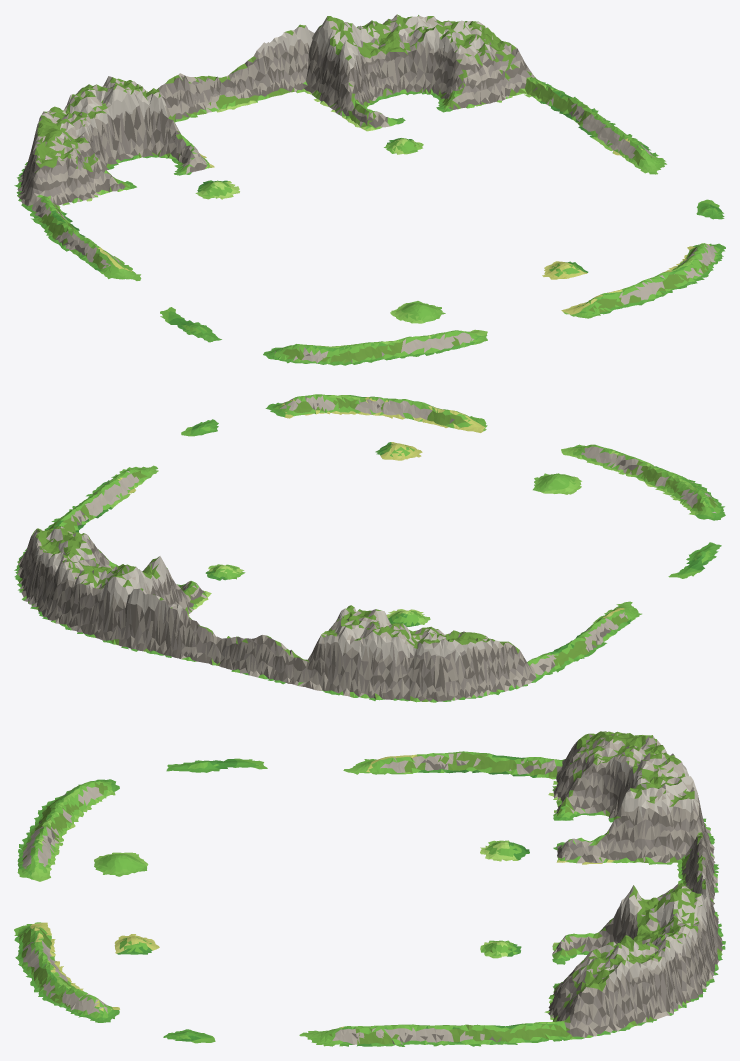
The model's file is Map-4-Relief.fbx.
The picture shows the model from 3 angles, top to bottom: view 1: azimuth 30°, elevation 25°; view 2: azimuth 150°, elevation 25°; view 3: azimuth 270°, elevation 25°; orthographic projection. The views are drawn at different scales.
Visible parts, largest first — view 1: Map-4-Relief-c23, Map-4-Relief-c13, Map-4-Relief-c33, Map-4-Relief-c03, Map-4-Relief-c32, Map-4-Relief-c02, Map-4-Relief-c10, Map-4-Relief-c20, Map-4-Relief-c00, Map-4-Relief-c31, Map-4-Relief-c30, Map-4-Relief-c12 (+2 smaller); view 2: Map-4-Relief-c23, Map-4-Relief-c13, Map-4-Relief-c03, Map-4-Relief-c33, Map-4-Relief-c20, Map-4-Relief-c10, Map-4-Relief-c02, Map-4-Relief-c32, Map-4-Relief-c00, Map-4-Relief-c30, Map-4-Relief-c31, Map-4-Relief-c01 (+2 smaller); view 3: Map-4-Relief-c13, Map-4-Relief-c33, Map-4-Relief-c23, Map-4-Relief-c03, Map-4-Relief-c32, Map-4-Relief-c02, Map-4-Relief-c10, Map-4-Relief-c20, Map-4-Relief-c30, Map-4-Relief-c31, Map-4-Relief-c00, Map-4-Relief-c01 (+2 smaller).
Boxes of the visible parts, x1,y1,x2,y2 form: Map-4-Relief-c23: (222,16,441,126); Map-4-Relief-c13: (76,73,233,182); Map-4-Relief-c33: (389,14,533,105); Map-4-Relief-c03: (14,93,110,207); Map-4-Relief-c32: (443,64,645,153); Map-4-Relief-c02: (25,168,132,277); Map-4-Relief-c10: (356,301,487,362); Map-4-Relief-c20: (542,261,686,318); Map-4-Relief-c00: (263,344,366,365); Map-4-Relief-c31: (614,139,724,219); Map-4-Relief-c30: (667,217,725,285); Map-4-Relief-c12: (126,153,239,199); Map-4-Relief-c23: (59,556,221,665); Map-4-Relief-c13: (215,605,411,700); Map-4-Relief-c03: (380,623,538,702); Map-4-Relief-c33: (14,526,113,623); Map-4-Relief-c20: (347,396,487,460); Map-4-Relief-c10: (533,444,682,494); Map-4-Relief-c02: (527,607,639,679); Map-4-Relief-c32: (23,477,134,567); Map-4-Relief-c00: (663,473,725,520); Map-4-Relief-c30: (211,394,357,421); Map-4-Relief-c31: (102,420,218,491); Map-4-Relief-c01: (614,542,721,615); Map-4-Relief-c13: (568,752,718,901); Map-4-Relief-c33: (568,931,706,1039); Map-4-Relief-c23: (568,872,725,986); Map-4-Relief-c03: (568,731,675,816); Map-4-Relief-c32: (367,975,570,1046); Map-4-Relief-c02: (368,751,570,816); Map-4-Relief-c10: (17,805,148,881); Map-4-Relief-c20: (14,922,159,986); Map-4-Relief-c30: (34,976,167,1037); Map-4-Relief-c31: (167,1026,369,1046); Map-4-Relief-c00: (38,779,119,816); Map-4-Relief-c01: (166,758,368,774).
Size of the model in its own units: 171 by 19.79 by 177.
